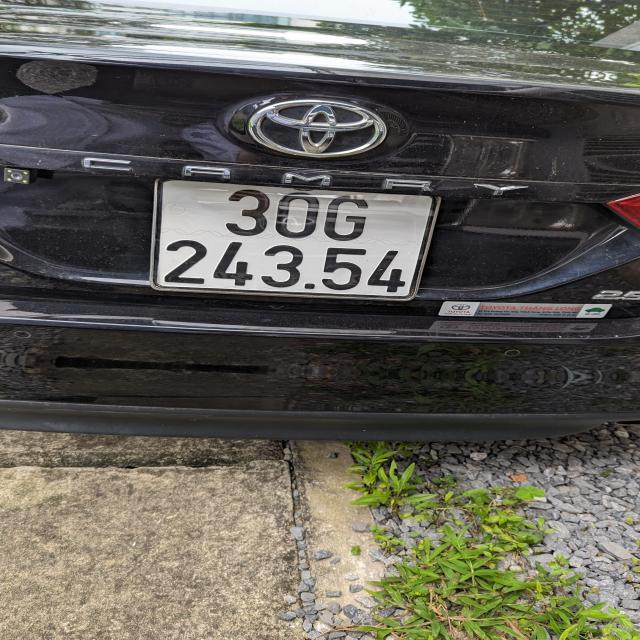license: (149, 177, 440, 301)
